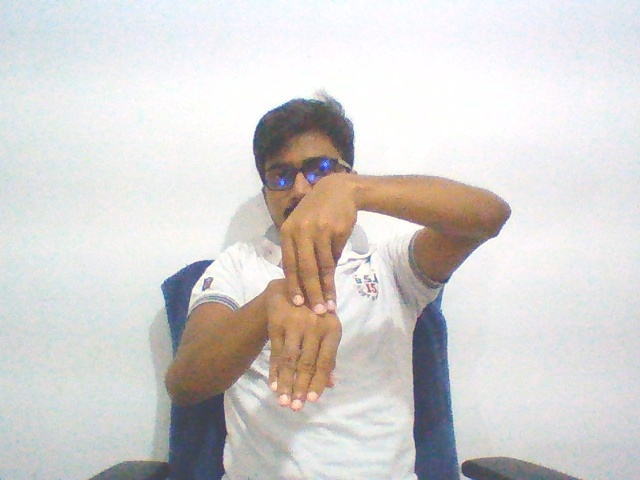papaya: (257, 168, 361, 417)
